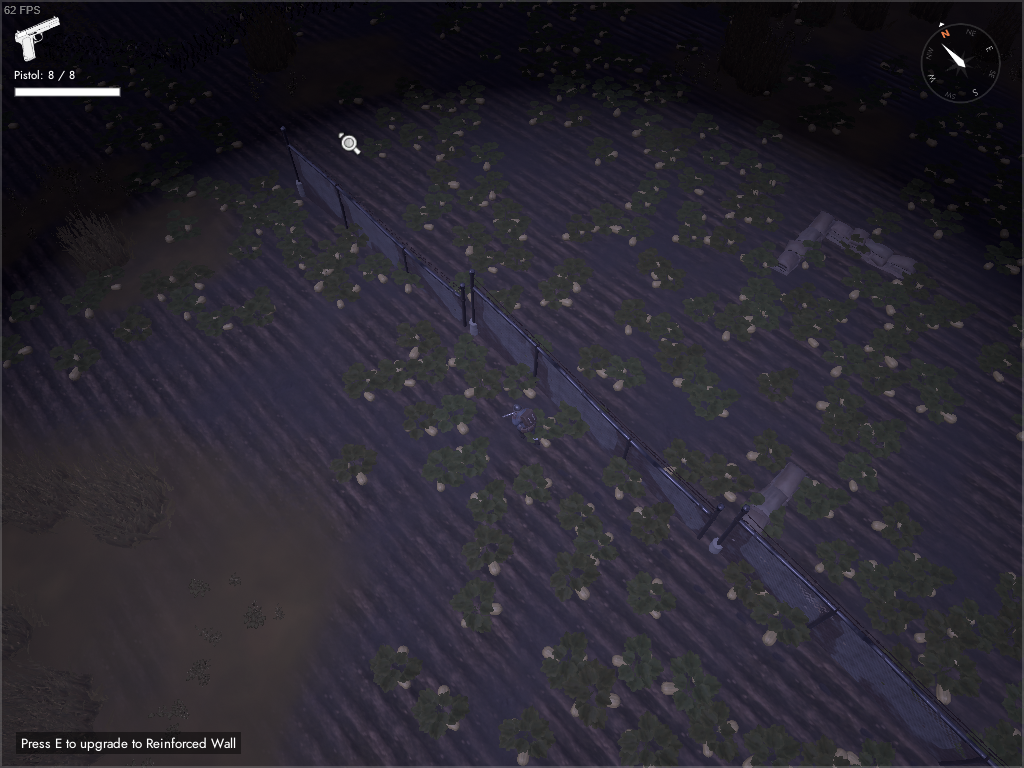fence: (705, 501, 1013, 768), (464, 267, 724, 546), (272, 124, 474, 337)
player: (499, 400, 540, 441)
sandbag: (721, 455, 810, 559), (817, 209, 923, 290), (766, 204, 838, 275)
